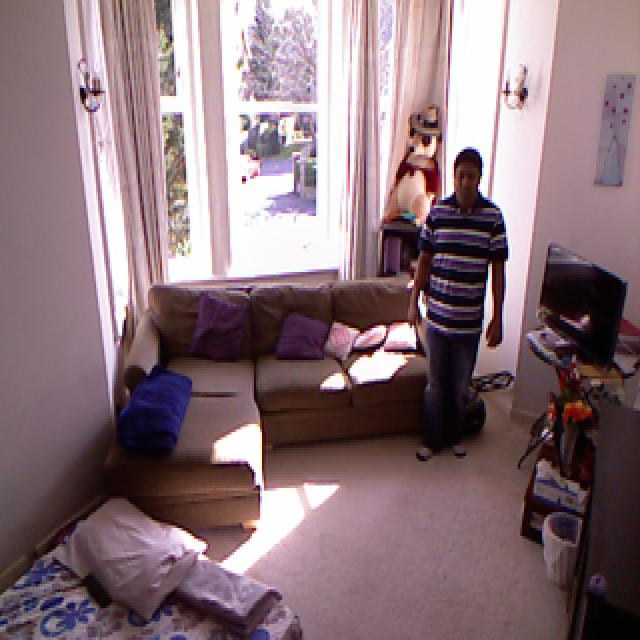standing: (412, 152, 508, 468)
